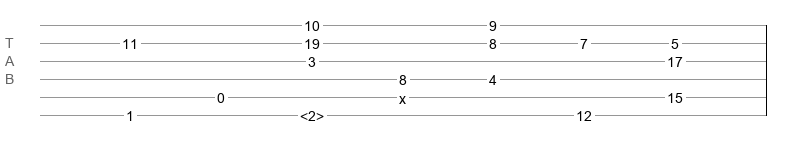0: (217, 90, 225, 100)
1: (126, 108, 134, 118)
10: (304, 18, 320, 28)
11: (122, 36, 138, 46)
12: (576, 108, 592, 118)
15: (667, 90, 683, 100)
17: (667, 54, 683, 64)
19: (304, 36, 320, 46)
3: (308, 54, 316, 64)
4: (489, 72, 497, 82)
5: (671, 36, 679, 46)
7: (580, 36, 588, 46)
8: (399, 72, 407, 82), (489, 36, 497, 46)
9: (489, 18, 497, 28)
harmonic: (300, 108, 324, 118)
x: (399, 91, 406, 99)
